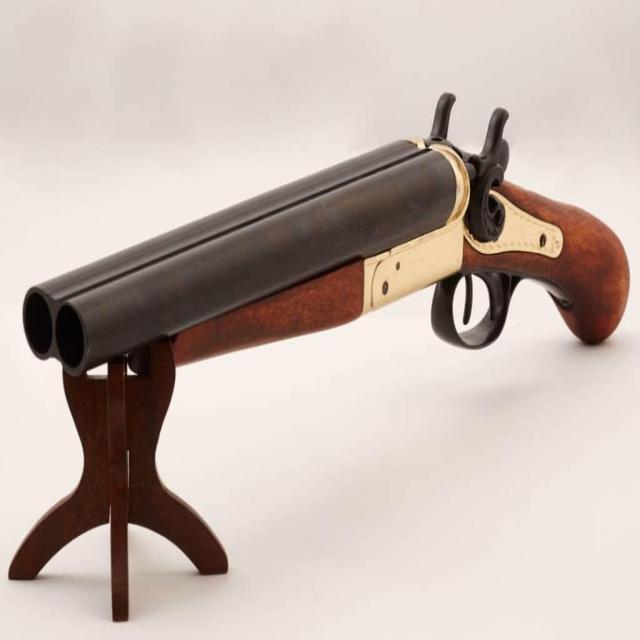weapon: (16, 84, 637, 482)
